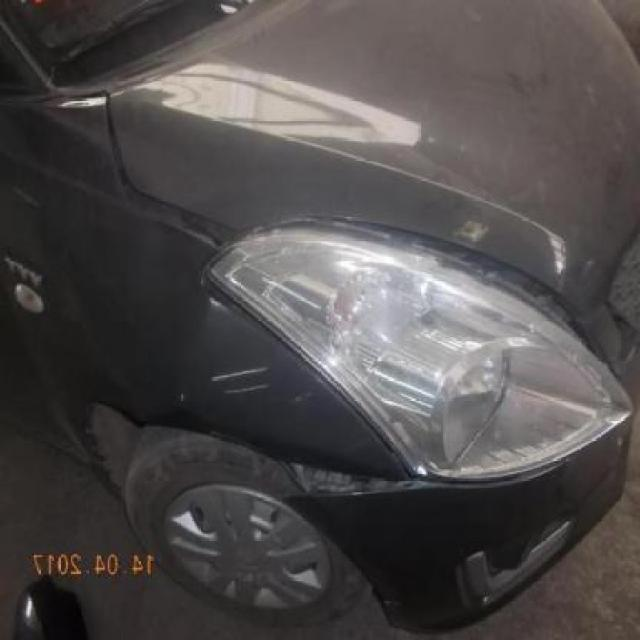damage: (282, 451, 410, 504), (207, 365, 270, 398)
